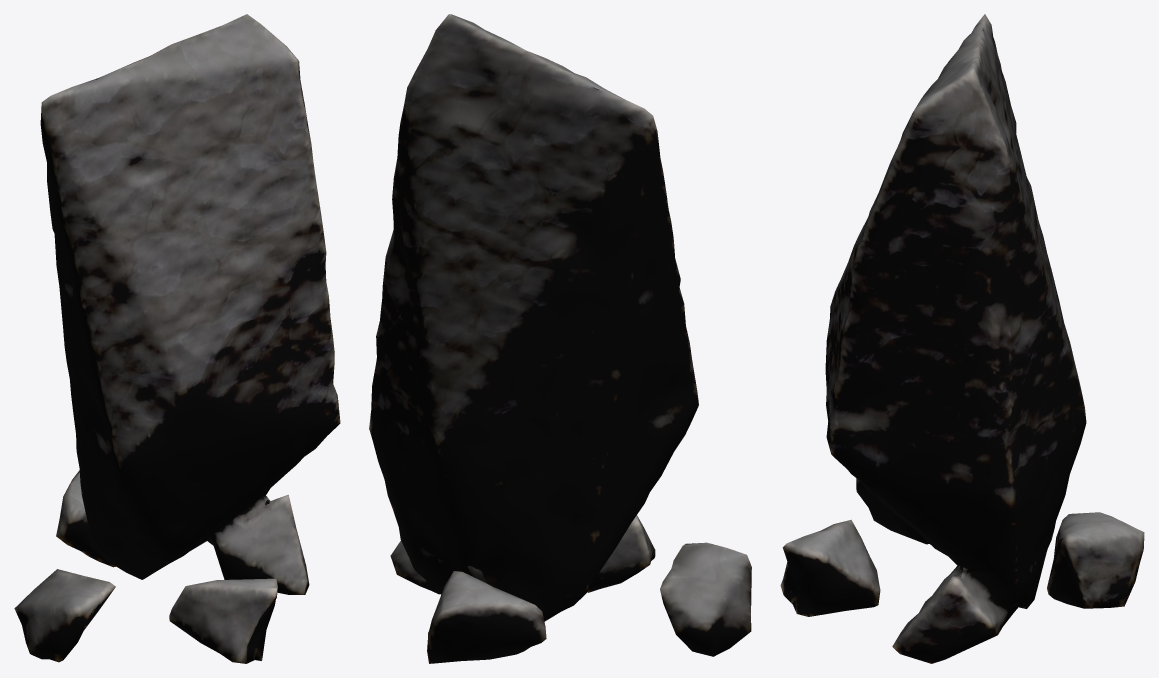
File: boulder_tall_b.glb
3 renders of one model, left to right at view 1: azimuth 30°, elevation 25°; view 2: azimuth 150°, elevation 25°; view 3: azimuth 270°, elevation 25°, orthographic. The views are drawn at different scales.
Visible parts, largest first — view 1: rock; view 2: rock; view 3: rock.
Part boxes in pixels (left/top/right/bottom): rock: left=14, top=14, right=340, bottom=663; rock: left=369, top=14, right=751, bottom=663; rock: left=780, top=14, right=1144, bottom=663.
Bounding box in the file's own units: 0.8329 × 1.46 × 0.8243.
Materials: 1 (1 with a texture image).
